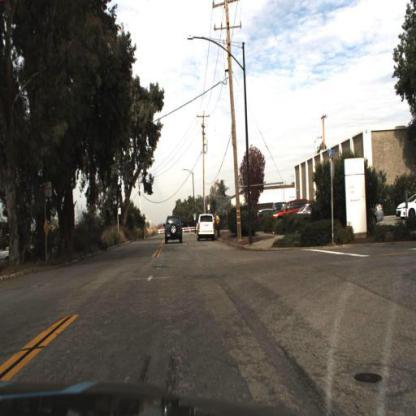car: (164, 210, 188, 248), (195, 207, 220, 243), (272, 201, 306, 224)
pedestrian: (212, 209, 222, 240)
